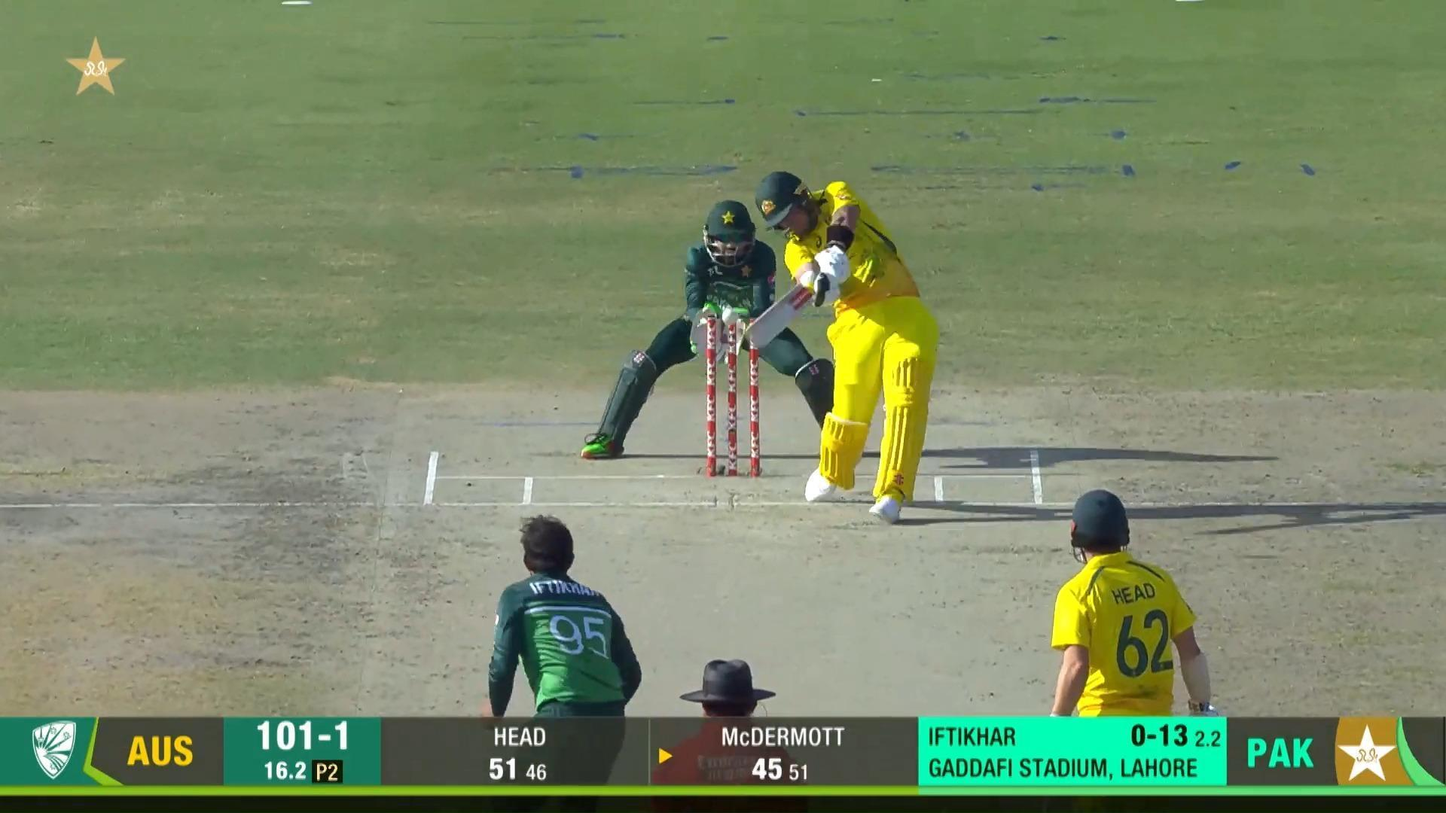BM 1: (744, 167, 937, 525)
BO: (483, 513, 645, 797)
